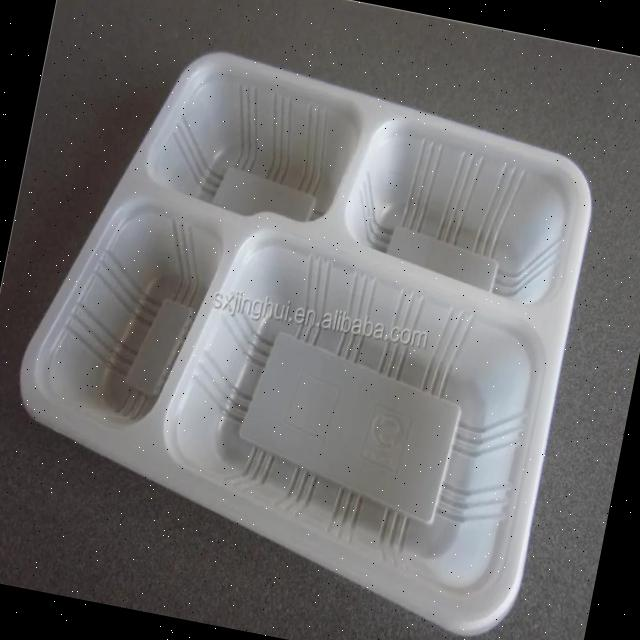styrofoam: (0, 22, 612, 640)
